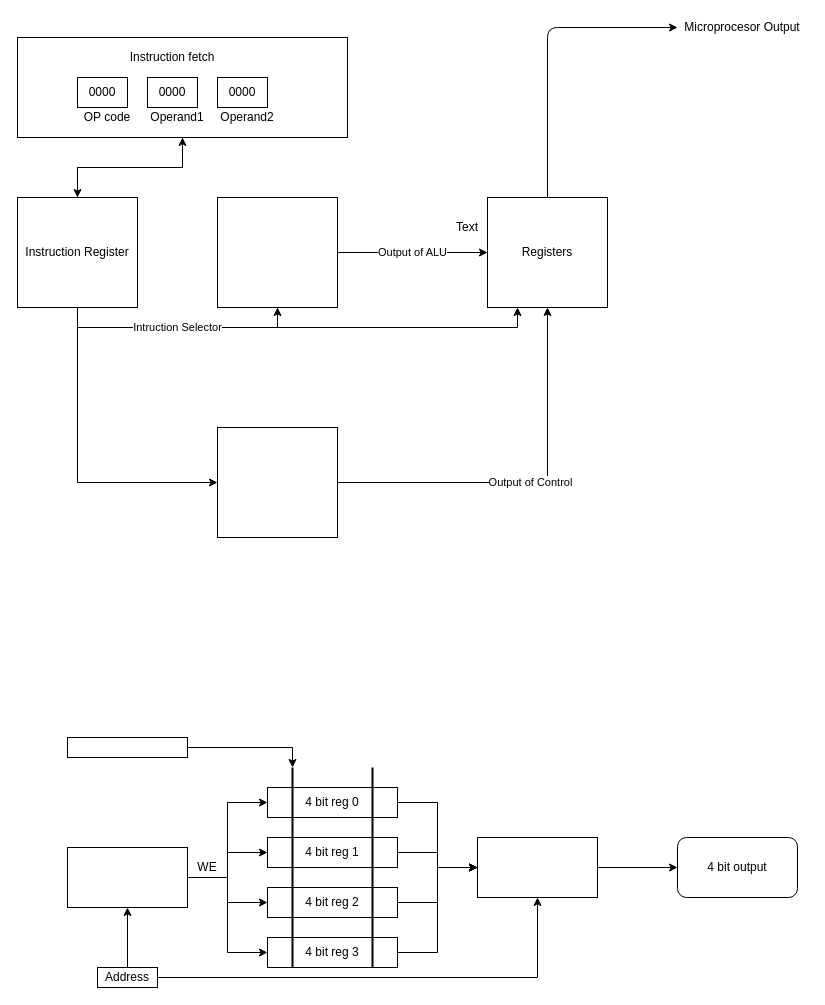
This 825x1005 diagram has some shape labels left out. The shapes that lost their labels are listed below. From the top down, each one's centre as x and y in pixels, then its label:
the point at 277,252: ALU
the point at 277,482: Control
the point at 127,747: Data to be written
the point at 127,877: Decoder
the point at 537,867: Multiplexer
